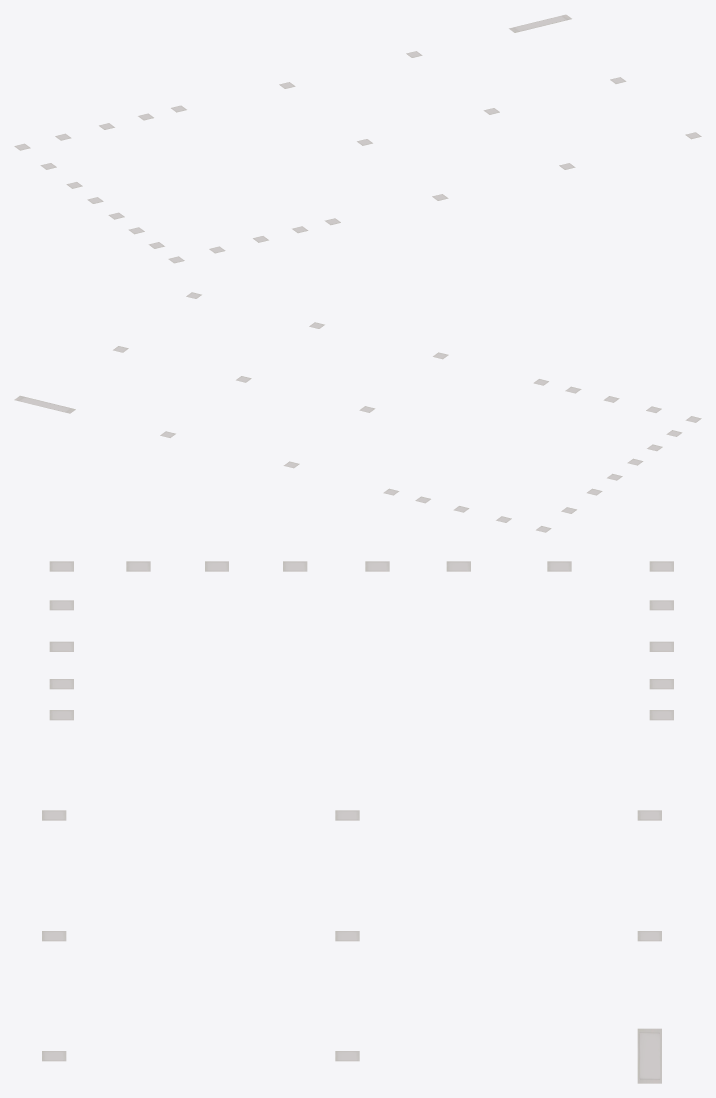
The model's file is Lamparas.obj.
3 views of the same model, one above another, from view 1: azimuth 30°, elevation 25°; view 2: azimuth 150°, elevation 25°; view 3: azimuth 270°, elevation 25° (orthographic). The views are drawn at different scales.
Parts seen in each view (by area): view 1: no part large enough to name; view 2: no part large enough to name; view 3: P7.
Boxes of the visible parts, x1,y1,x2,y2 form: P7: [637, 1028, 661, 1083].
Size of the model in its own units: 46.15 by 0 by 23.62.
